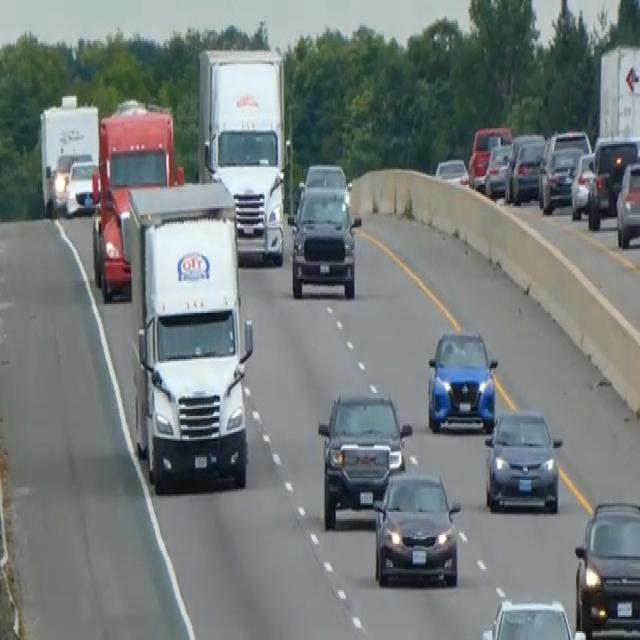car: (316, 388, 412, 530), (371, 466, 461, 588), (573, 498, 639, 638), (483, 405, 563, 514), (289, 183, 361, 299), (426, 325, 498, 434), (587, 133, 639, 230), (537, 128, 591, 213), (479, 596, 587, 638), (467, 123, 512, 190), (511, 137, 545, 203), (615, 156, 639, 249), (64, 156, 98, 217), (569, 149, 596, 219), (483, 140, 512, 198), (302, 160, 348, 190), (51, 150, 74, 207), (434, 154, 469, 187)
lorry: (123, 180, 255, 492)
